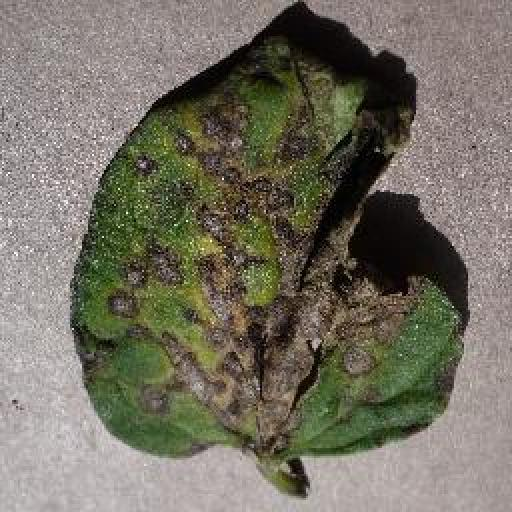Early Blight: (70, 36, 467, 467)
